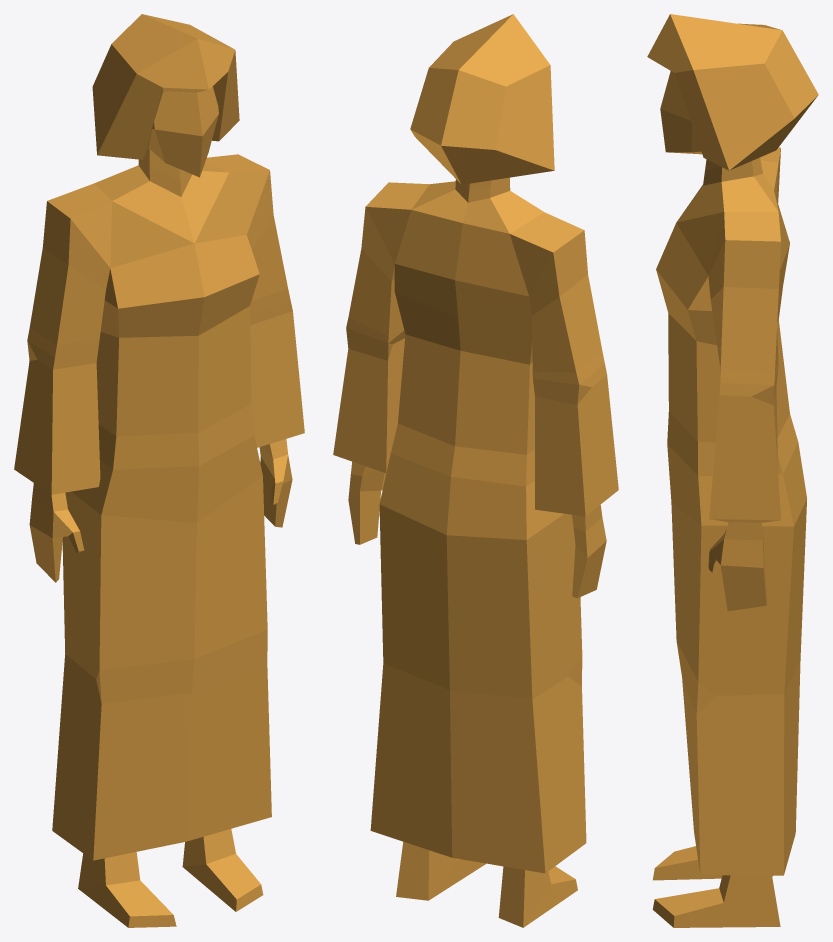
Rendered from woman-lady-rival.fbx.
The picture shows the model from 3 angles, left to right: view 1: azimuth 30°, elevation 25°; view 2: azimuth 150°, elevation 25°; view 3: azimuth 270°, elevation 25°; orthographic projection. The views are drawn at different scales.
Visible parts, largest first — view 1: woman-lady-rival; view 2: woman-lady-rival; view 3: woman-lady-rival.
Boxes of the visible parts, bbox=[...] form: woman-lady-rival: bbox=[14, 14, 304, 927]; woman-lady-rival: bbox=[333, 14, 618, 927]; woman-lady-rival: bbox=[647, 14, 818, 927].
Bounding box in the file's own units: 0.5642 × 1.84 × 0.3239.
